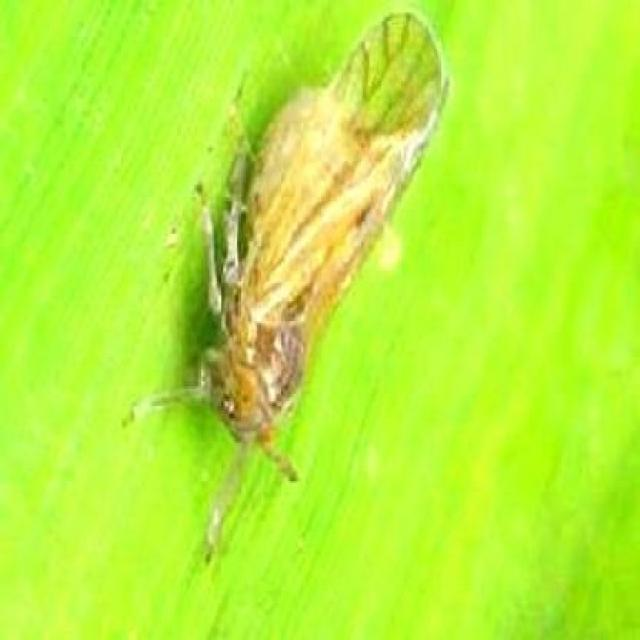brown-planthopper: (176, 8, 450, 478)
